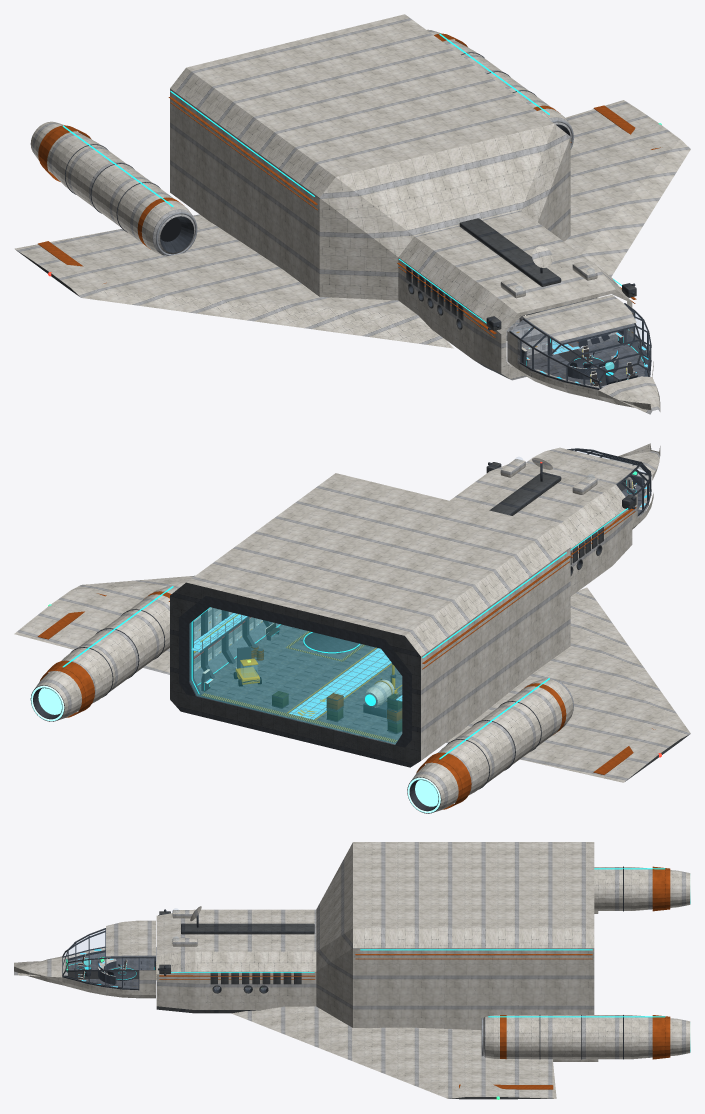
Rendered from ship_interior.glb.
3 renders of one model, top to bottom at view 1: azimuth 30°, elevation 25°; view 2: azimuth 150°, elevation 25°; view 3: azimuth 270°, elevation 25°, orthographic. The views are drawn at different scales.
Parts seen in each view (by area): view 1: arch_hull_ext, arch_wall_frame, arch_hull_ext_dark, arch_accent_orange, arch_floor_deck, arch_wall_panel, arch_neon_cyan, arch_darkmetal; view 2: arch_hull_ext, arch_force_field, arch_hull_ext_dark, arch_wall_frame, arch_floor_deck, arch_accent_orange, arch_floor_grate, arch_engine_glow, arch_neon_cyan, arch_hazard, arch_wall_panel, arch_gunmetal (+3 smaller); view 3: arch_hull_ext, arch_accent_orange, arch_hull_ext_dark, arch_wall_frame, arch_neon_cyan, arch_floor_deck, arch_window_glass.
Boxes of the visible parts, left/top/right/bottom form: arch_hull_ext: left=14, top=14, right=690, bottom=414; arch_wall_frame: left=65, top=52, right=651, bottom=389; arch_hull_ext_dark: left=16, top=218, right=636, bottom=378; arch_accent_orange: left=38, top=33, right=660, bottom=350; arch_floor_deck: left=527, top=339, right=644, bottom=387; arch_wall_panel: left=506, top=298, right=648, bottom=389; arch_neon_cyan: left=62, top=34, right=645, bottom=379; arch_darkmetal: left=160, top=217, right=637, bottom=384; arch_hull_ext: left=14, top=443, right=690, bottom=812; arch_force_field: left=190, top=607, right=401, bottom=743; arch_hull_ext_dark: left=170, top=462, right=689, bottom=781; arch_wall_frame: left=30, top=448, right=651, bottom=813; arch_floor_deck: left=198, top=484, right=645, bottom=744; arch_accent_orange: left=37, top=507, right=655, bottom=809; arch_floor_grate: left=191, top=613, right=402, bottom=719; arch_engine_glow: left=31, top=685, right=440, bottom=813; arch_neon_cyan: left=62, top=480, right=636, bottom=759; arch_hazard: left=201, top=631, right=397, bottom=742; arch_wall_panel: left=194, top=495, right=650, bottom=671; arch_gunmetal: left=201, top=480, right=636, bottom=733; arch_hull_ext: left=14, top=842, right=690, bottom=1098; arch_accent_orange: left=159, top=866, right=670, bottom=1089; arch_hull_ext_dark: left=156, top=911, right=553, bottom=1099; arch_wall_frame: left=62, top=866, right=623, bottom=1059; arch_neon_cyan: left=68, top=868, right=665, bottom=1017; arch_floor_deck: left=68, top=957, right=266, bottom=989; arch_window_glass: left=64, top=909, right=178, bottom=955.
Size of the model in its own units: 68.42 by 13.9 by 81.09.
53 materials, 20 textured.
